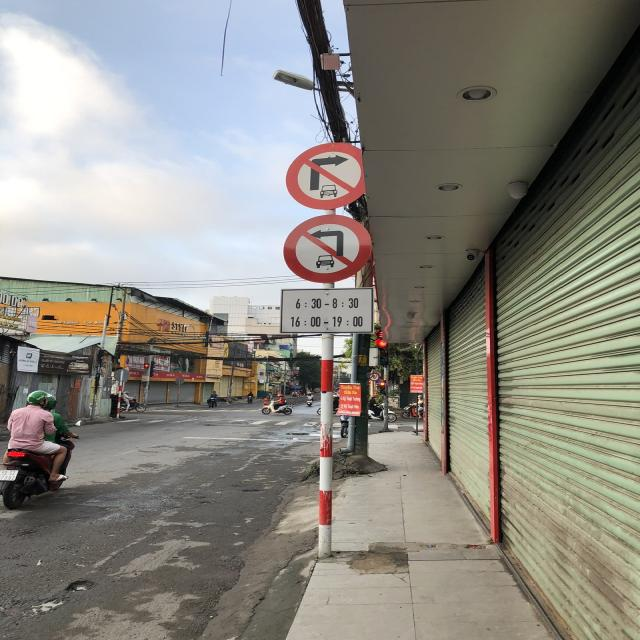Bien bao cam xe o to re phai: (284, 139, 376, 212)
Bien bao cam xe o to re trai: (272, 212, 379, 284)
